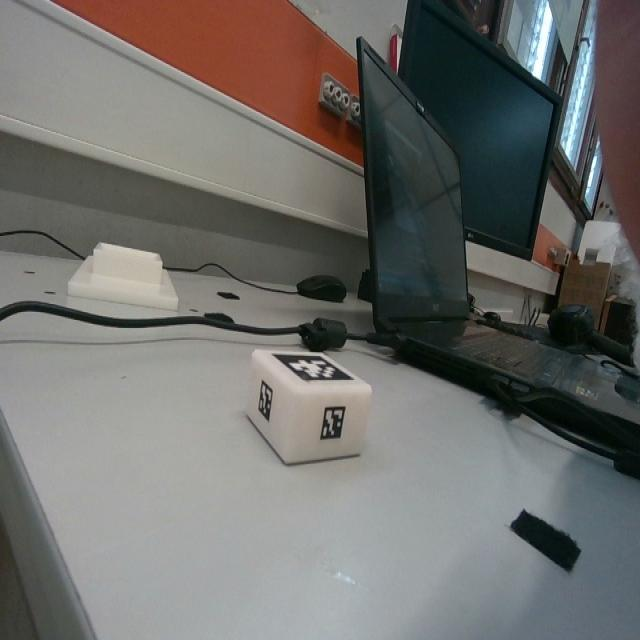Cube: (242, 351, 373, 468)
